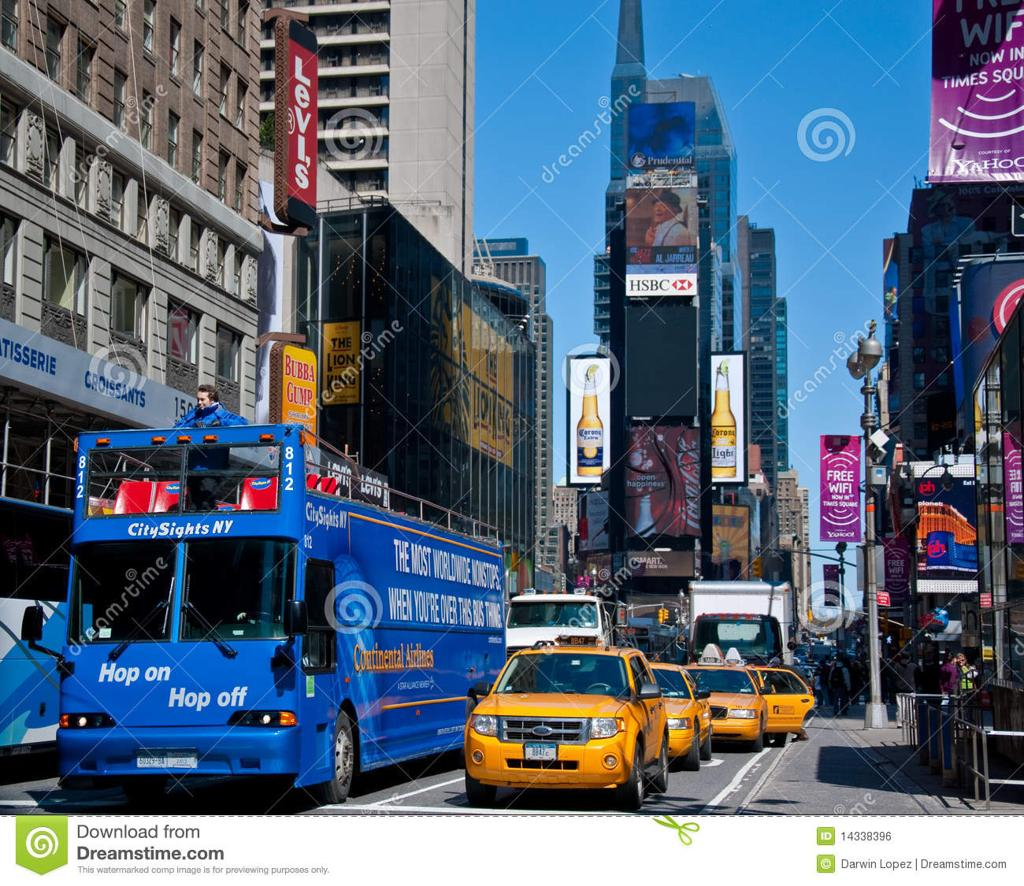face: (654, 200, 670, 222), (196, 390, 209, 407)
